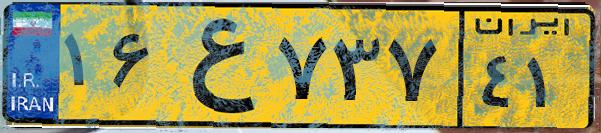1: (57, 26, 110, 100), (525, 38, 570, 115)
3: (330, 28, 385, 110)
4: (475, 38, 525, 113)
6: (110, 28, 158, 98)
7: (270, 28, 330, 110), (385, 28, 445, 110)
ع: (158, 12, 270, 120)
